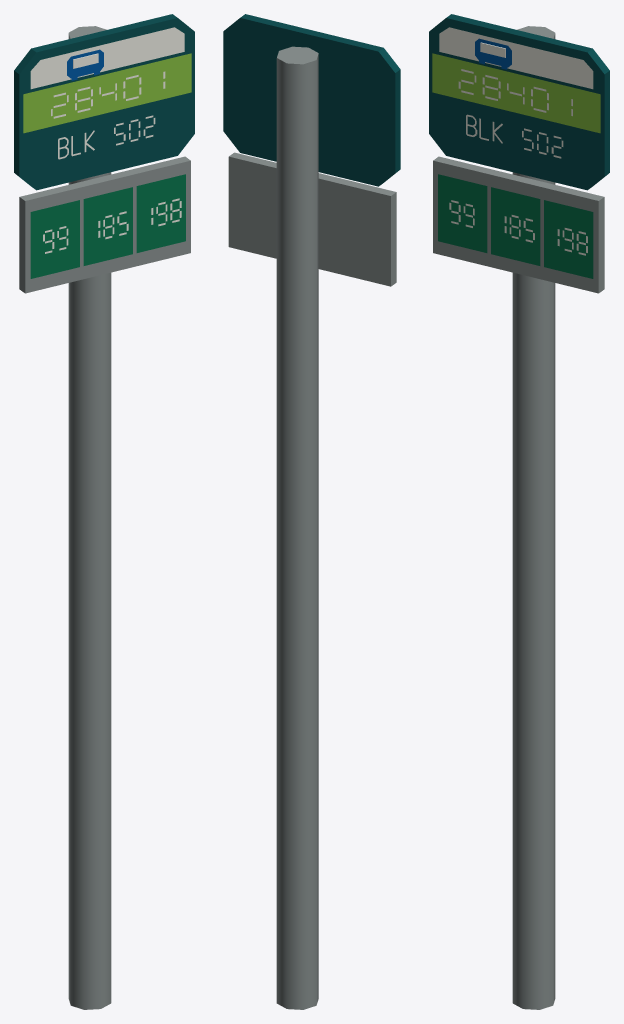
The model's file is sg-bus-stop-flag.glb.
3 renders of one model, left to right at view 1: azimuth 30°, elevation 25°; view 2: azimuth 150°, elevation 25°; view 3: azimuth 330°, elevation 25°, orthographic. The views are drawn at different scales.
Visible parts, largest first — view 1: bus_stop_post, bus_stop_flag, services_panel; view 2: bus_stop_post, bus_stop_flag, services_panel; view 3: bus_stop_post, bus_stop_flag, services_panel.
Part boxes in pixels (<box>): bus_stop_post: <box>68,26,111,1009</box>; bus_stop_flag: <box>14,14,194,190</box>; services_panel: <box>19,156,190,293</box>; bus_stop_post: <box>276,46,318,1009</box>; bus_stop_flag: <box>223,14,400,186</box>; services_panel: <box>228,152,396,286</box>; bus_stop_post: <box>512,26,555,1009</box>; bus_stop_flag: <box>429,14,609,190</box>; services_panel: <box>433,156,604,293</box>.
Size of the model in its own units: 0.586 by 3.12 by 0.173.
